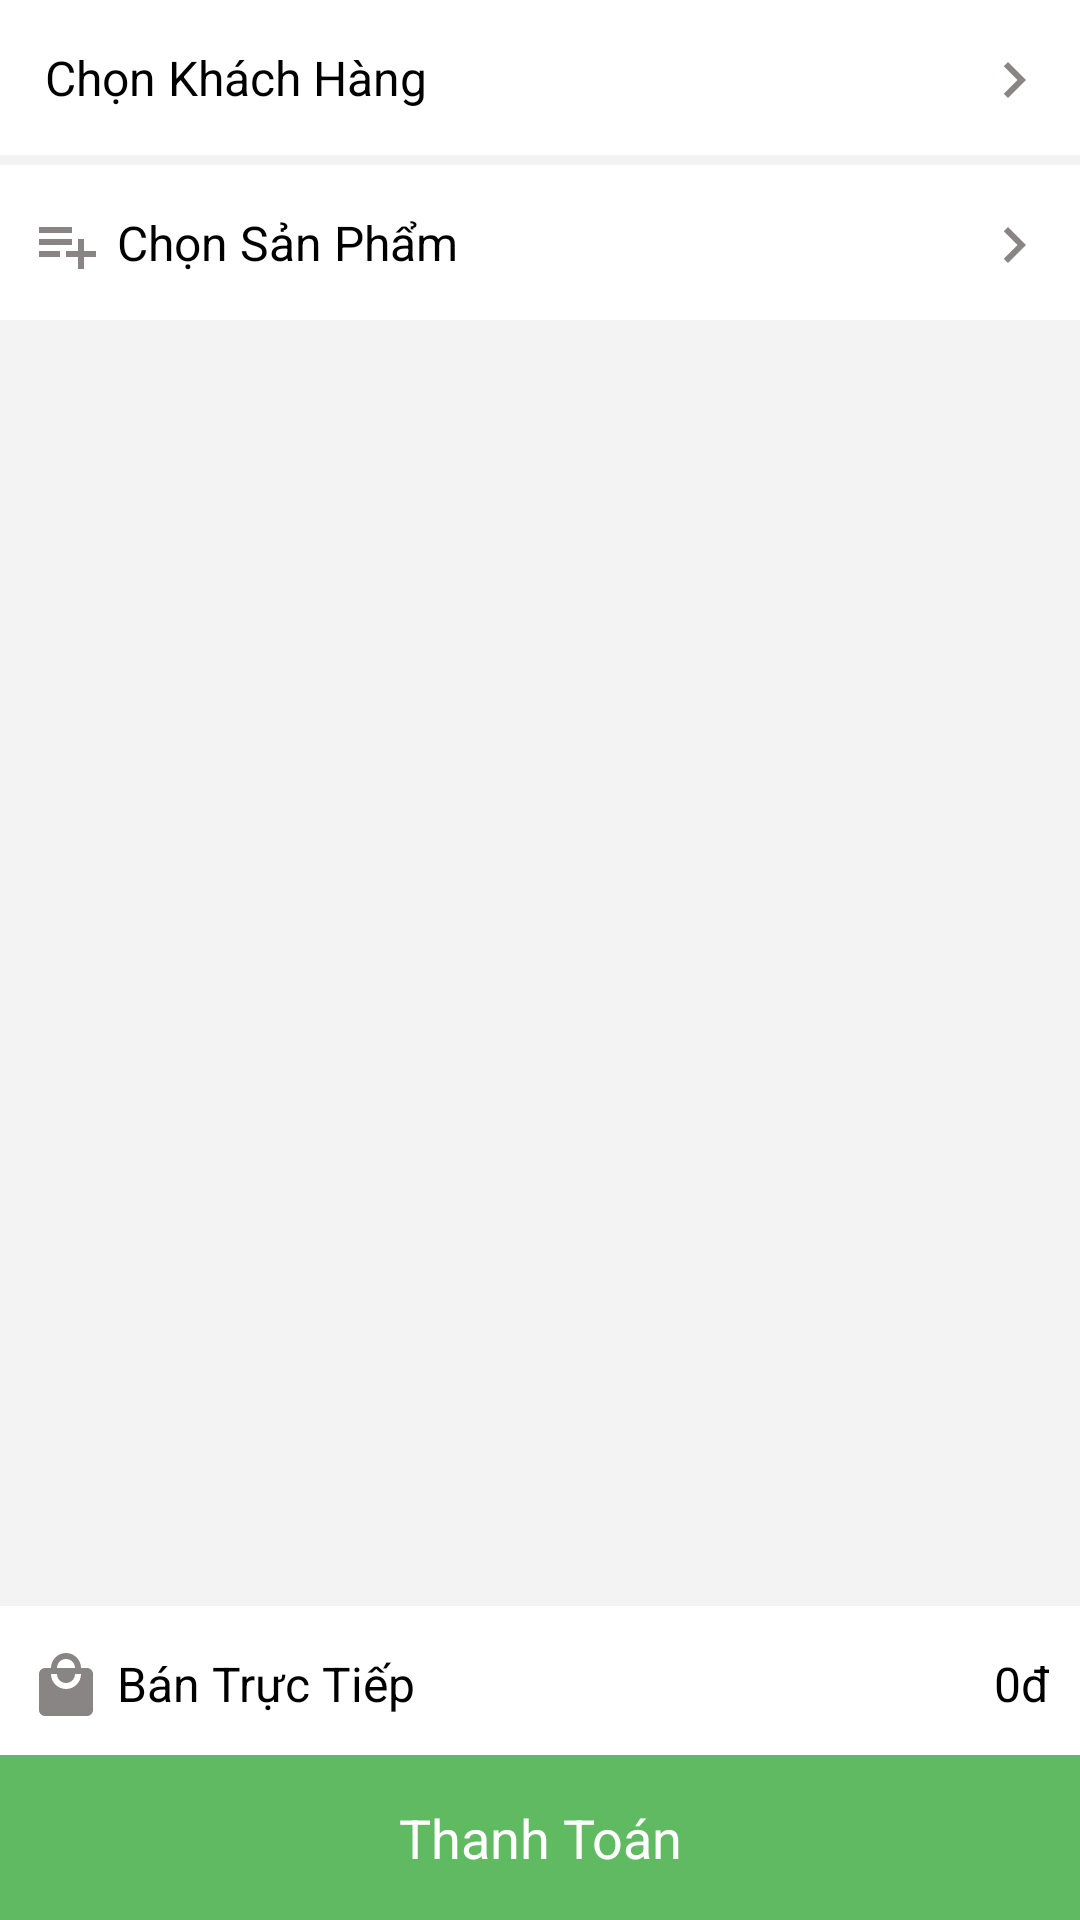

Icons on this 1080w x 1920h Android screen, each with the point to tap as (x=x, y=y):
next: (x=1015, y=80), (x=1015, y=245)
order: (x=66, y=1684)
playlist add: (x=67, y=248)
